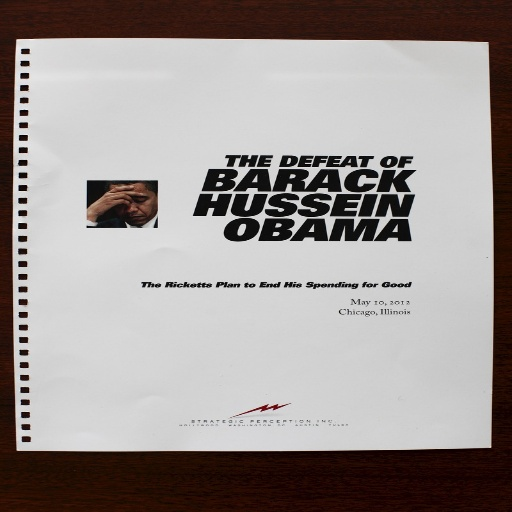hand: (83, 180, 152, 224)
